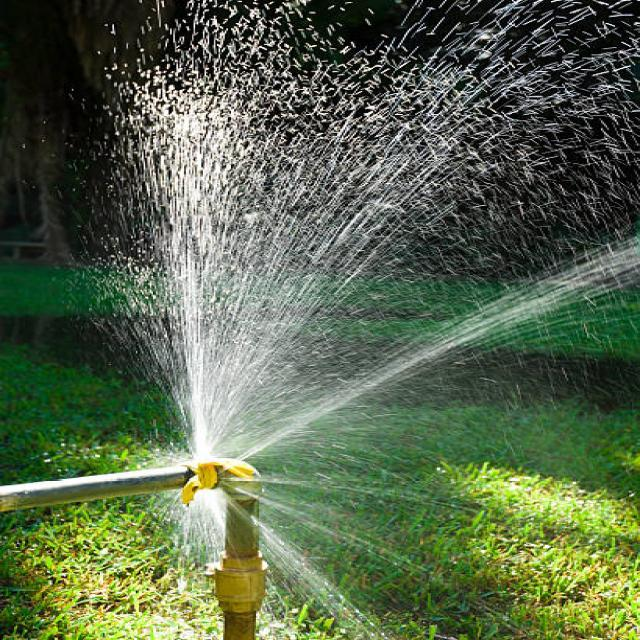pipe burst: (91, 1, 640, 640)
